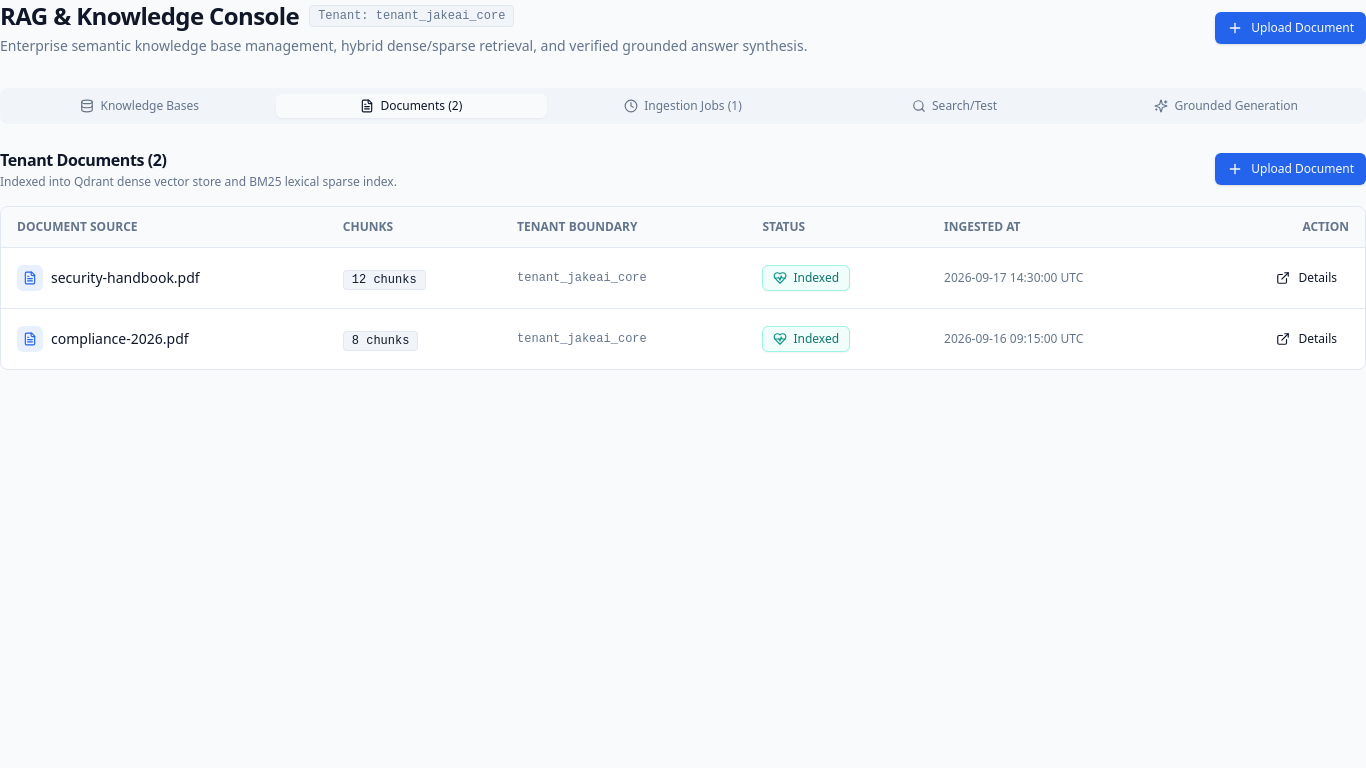
it: FE-05 RAG Console Integration Suite › executes synchronous document ingestion and immediately records active document
The width and height of the screenshot is (1366, 768).
// Open upload dialog
Click the button "Upload Document" in the row of "Tenant:" at (1291, 28), box [1215, 12, 1365, 44]
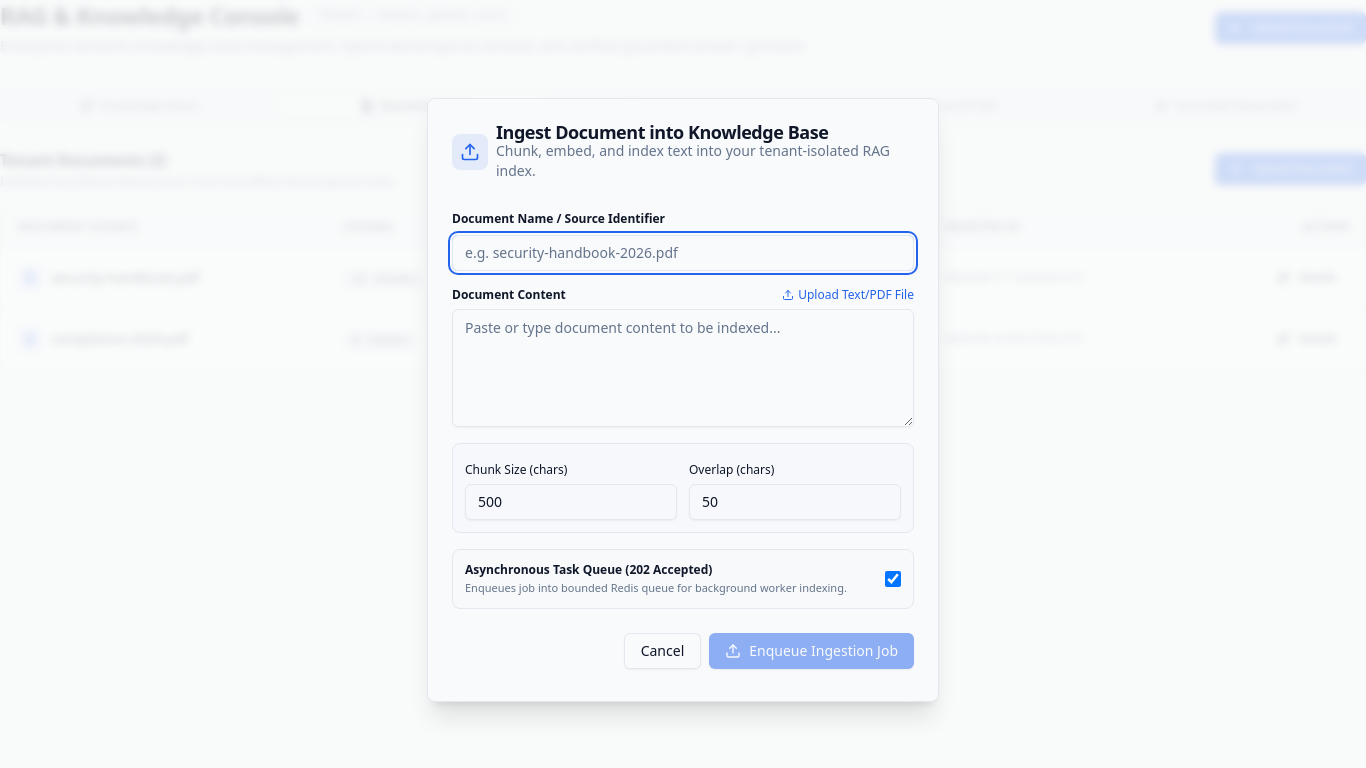
Type "soc2-type2.pdf" into the field labelled "Document Name / Source Identifier" at (683, 253), box [452, 235, 914, 271]
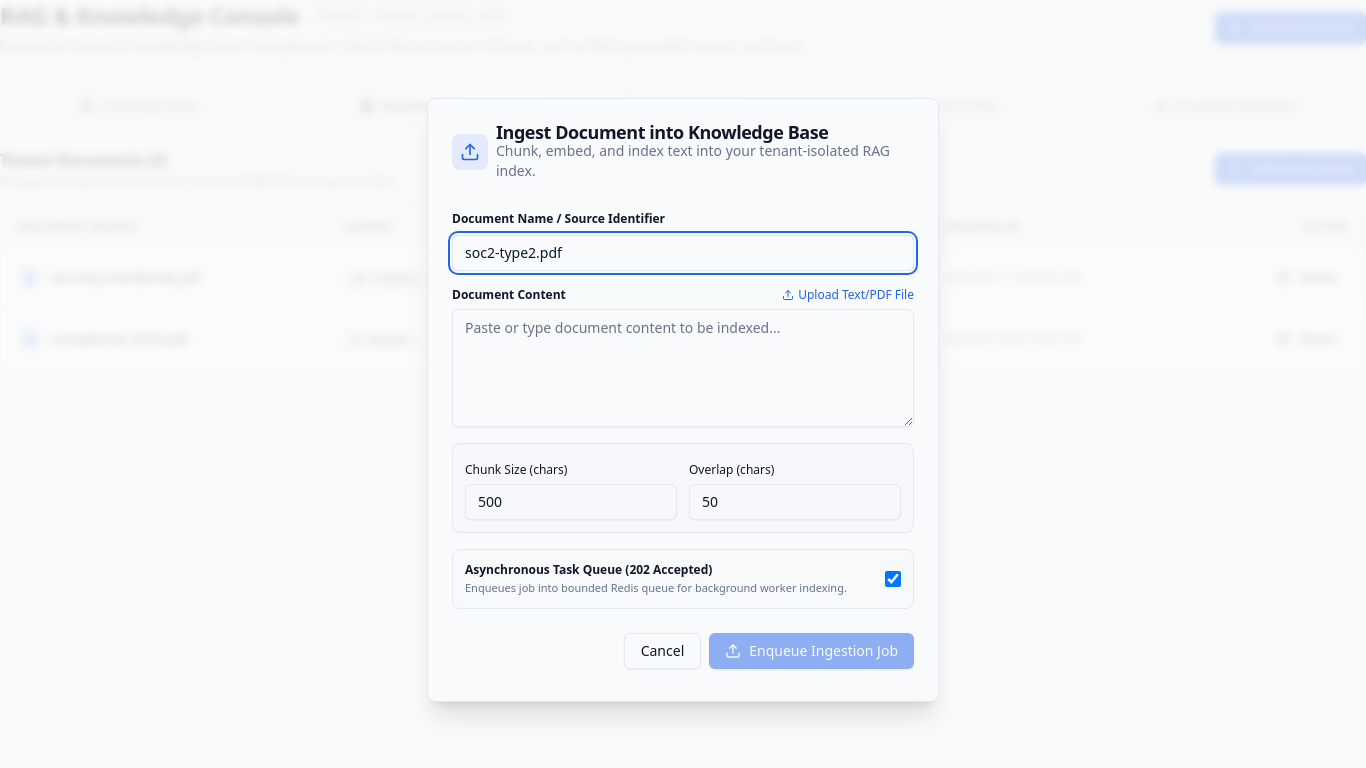
Type "SOC2 Type II compliance verified for all cryptographic key management systems." into the text box labelled "Document Content" at (683, 368), box [452, 309, 914, 427]
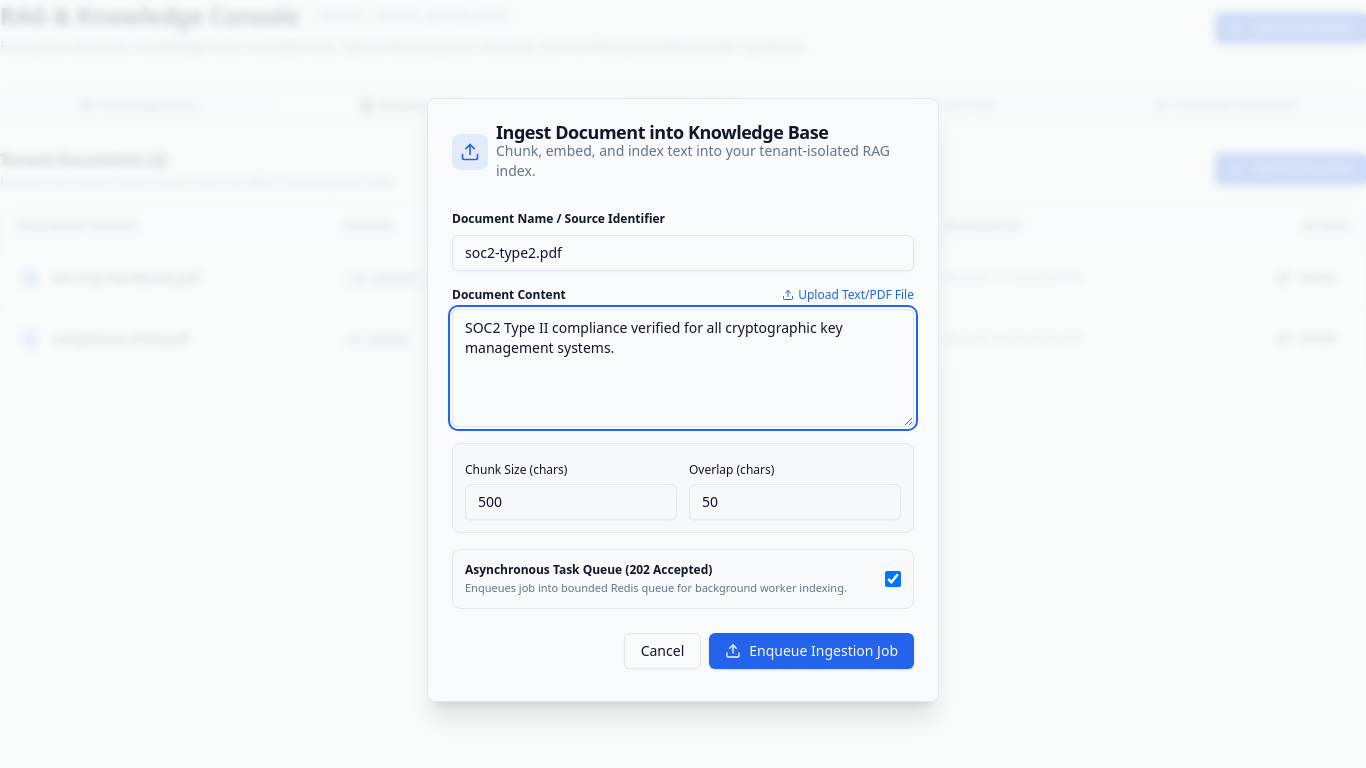
// Toggle async mode OFF
Click the checkbox labelled "Asynchronous Task Queue (202 Accepted)" at (893, 579), box [885, 571, 901, 587]
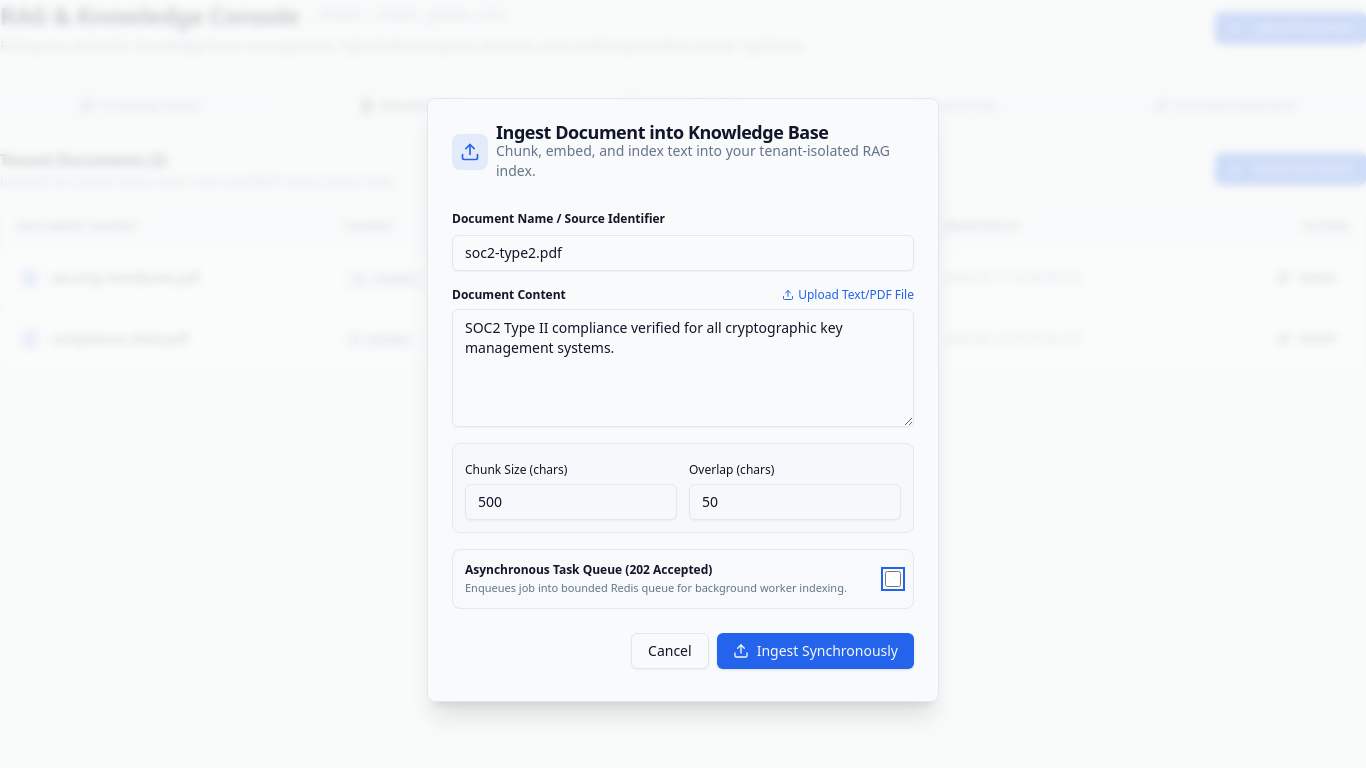
Click the button "Ingest Synchronously" at (815, 651), box [717, 633, 914, 669]
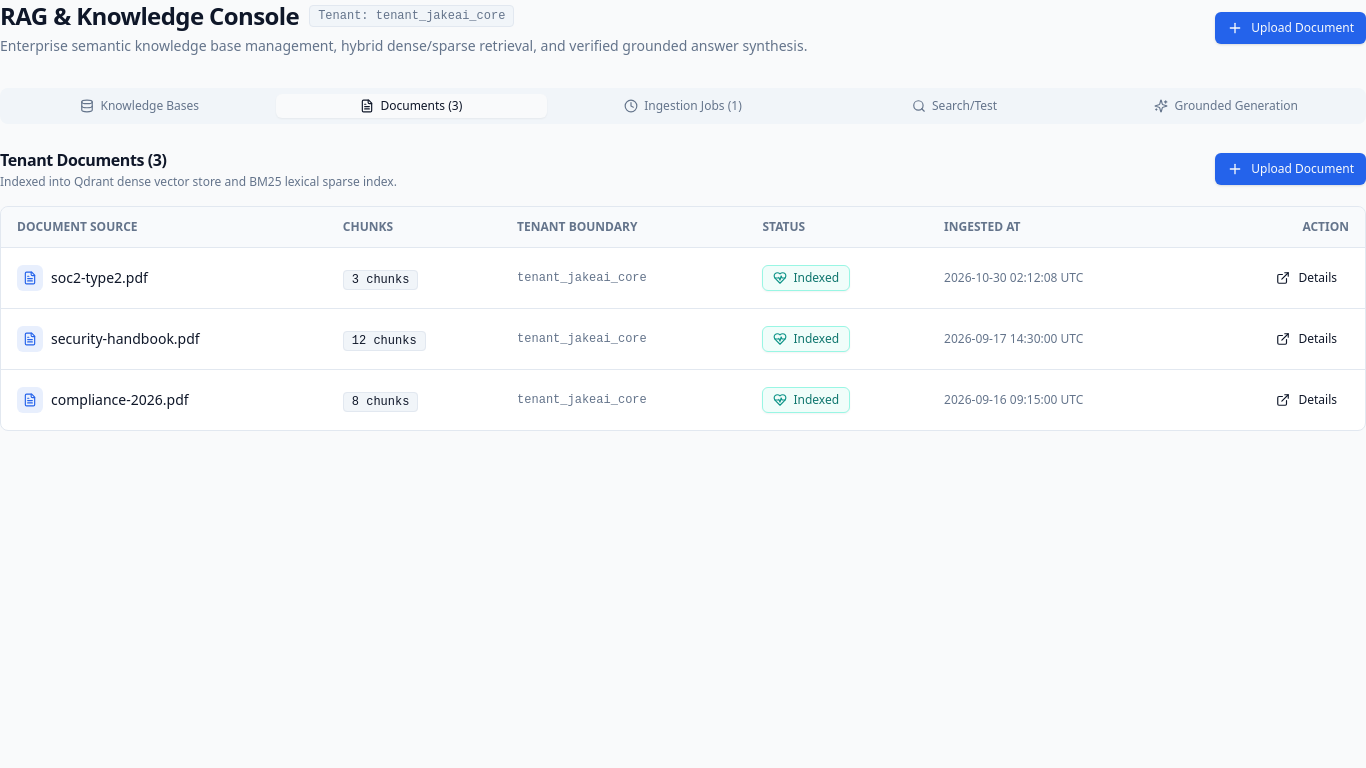
Expected: the text "soc2-type2.pdf" is shown, [51, 268, 148, 288]
